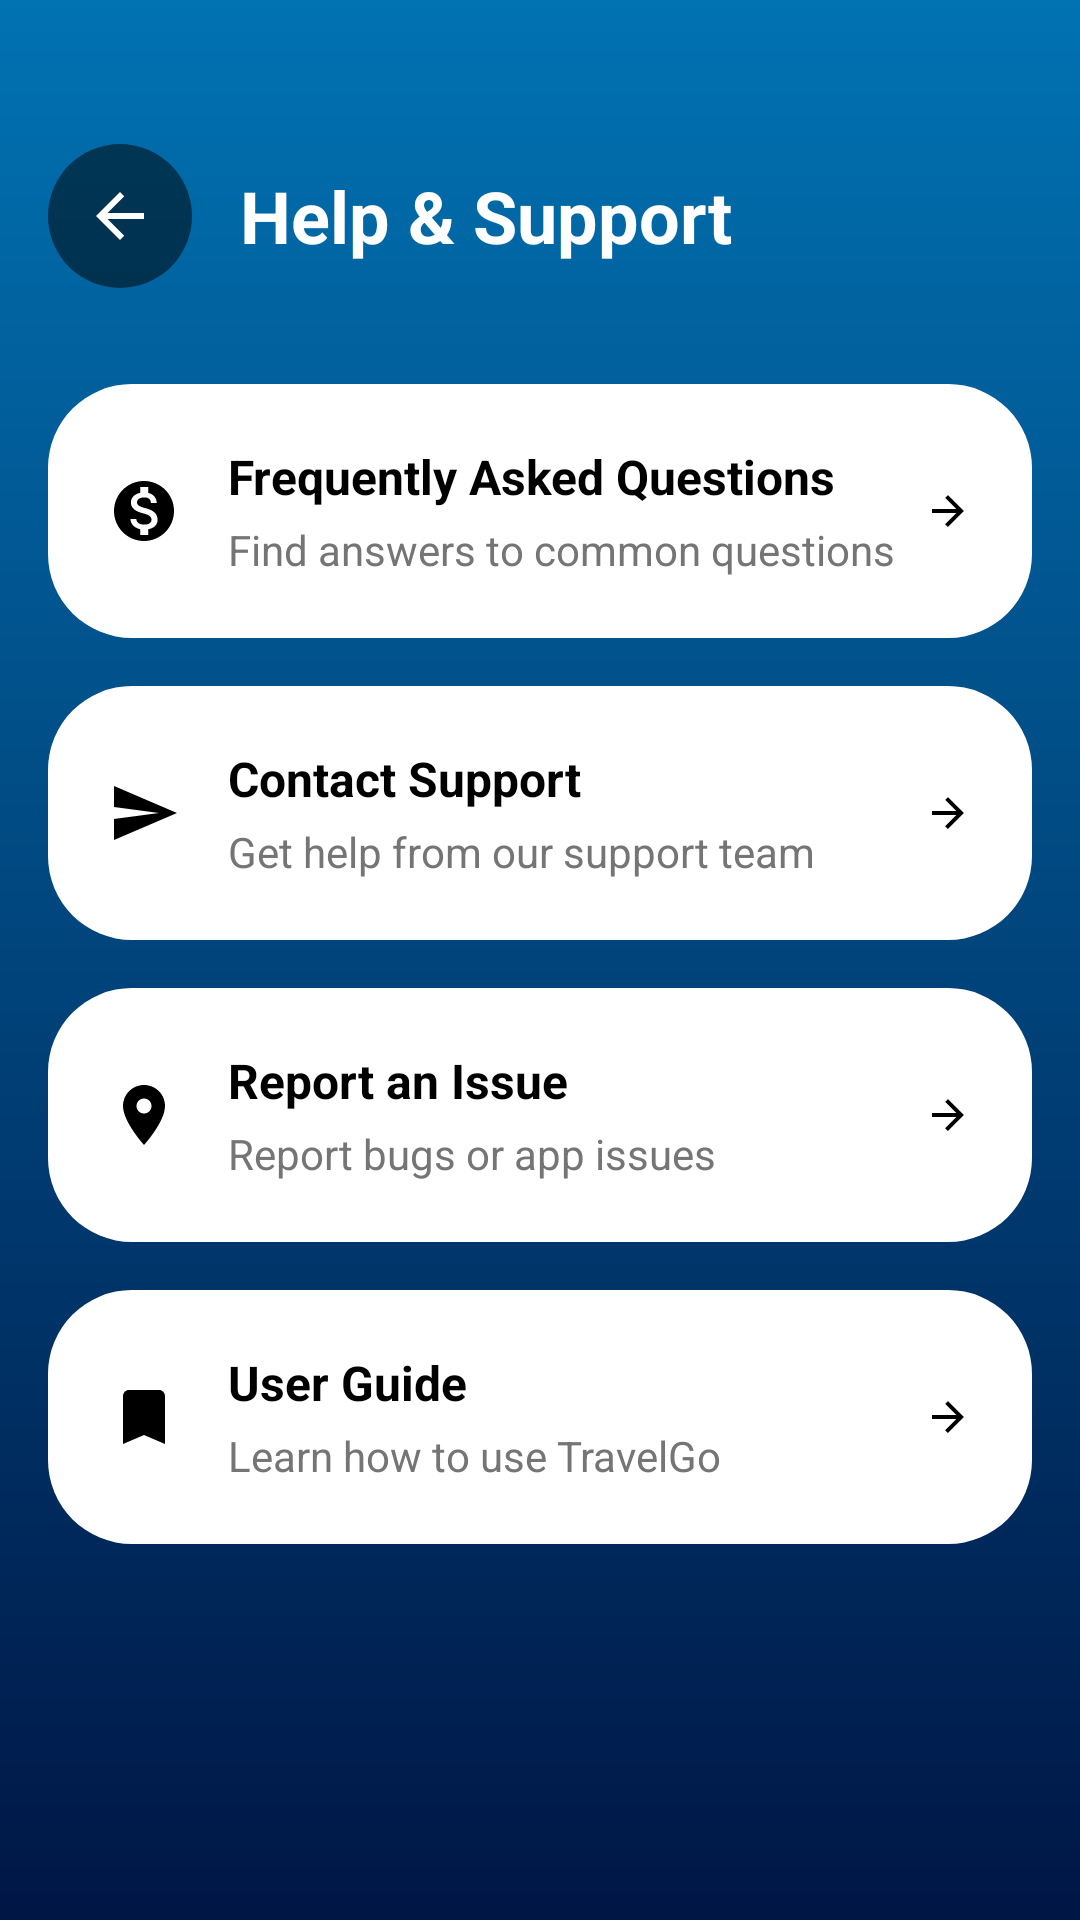

Icons on this 1080 x 1920 Android screen, each with its box as (x1, y1, x2, y2):
bookmark: (123, 1390, 165, 1444)
location: (123, 1085, 165, 1145)
send: (114, 786, 177, 840)
